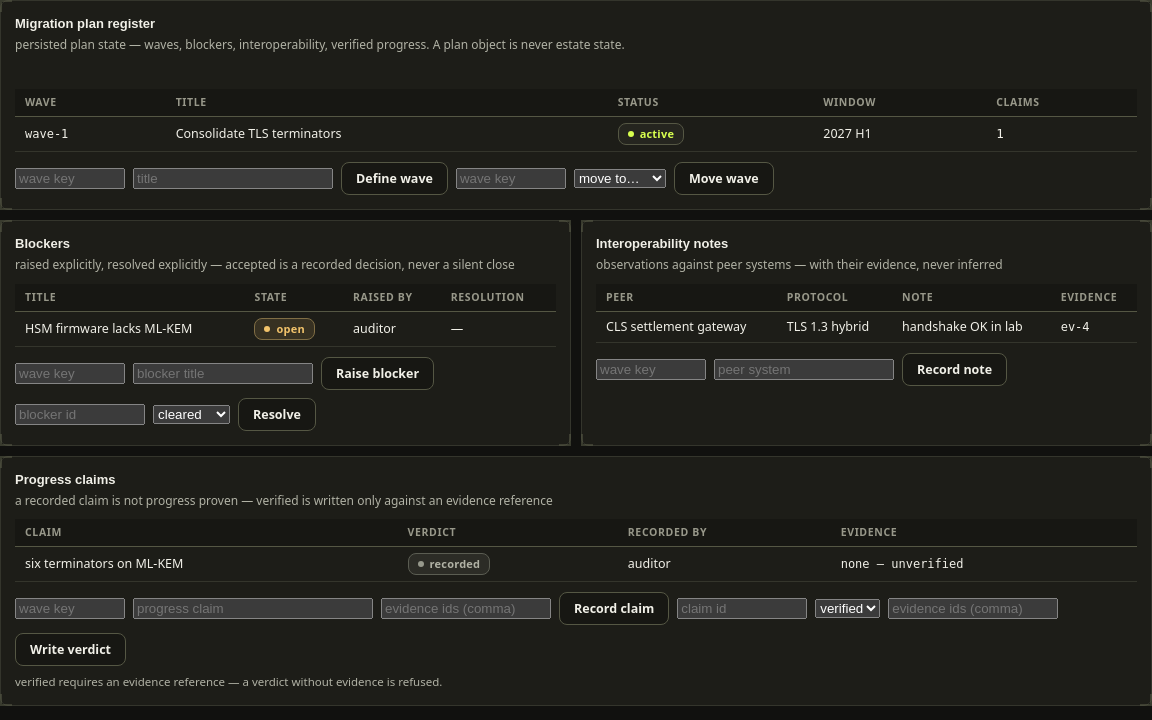
it: PQC migration plan register › posts the verdict with its evidence and reports the outcome
expect the text "six terminators on ML-KEM" is shown: met, box [15,547,398,582]
In the field with placeholder "claim id": (742,609) [677,598,807,619], type "p1"
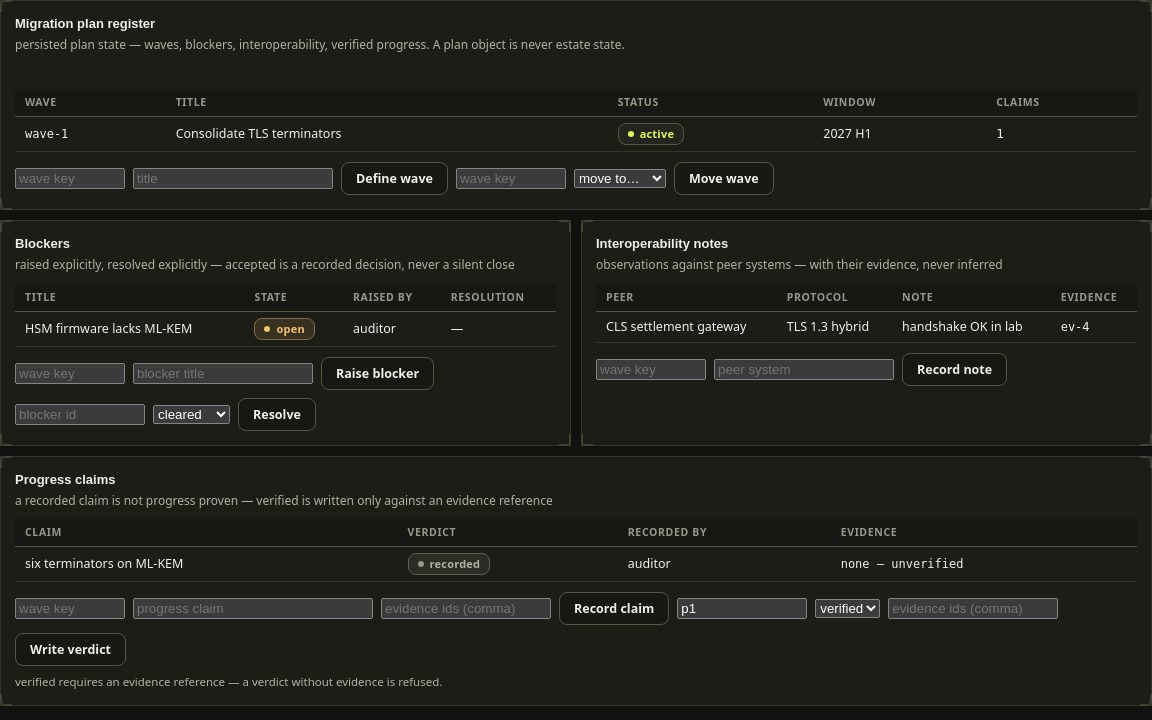
In the field named "verify evidence ids": (973,609) [888,598,1058,619], type "ev-9"
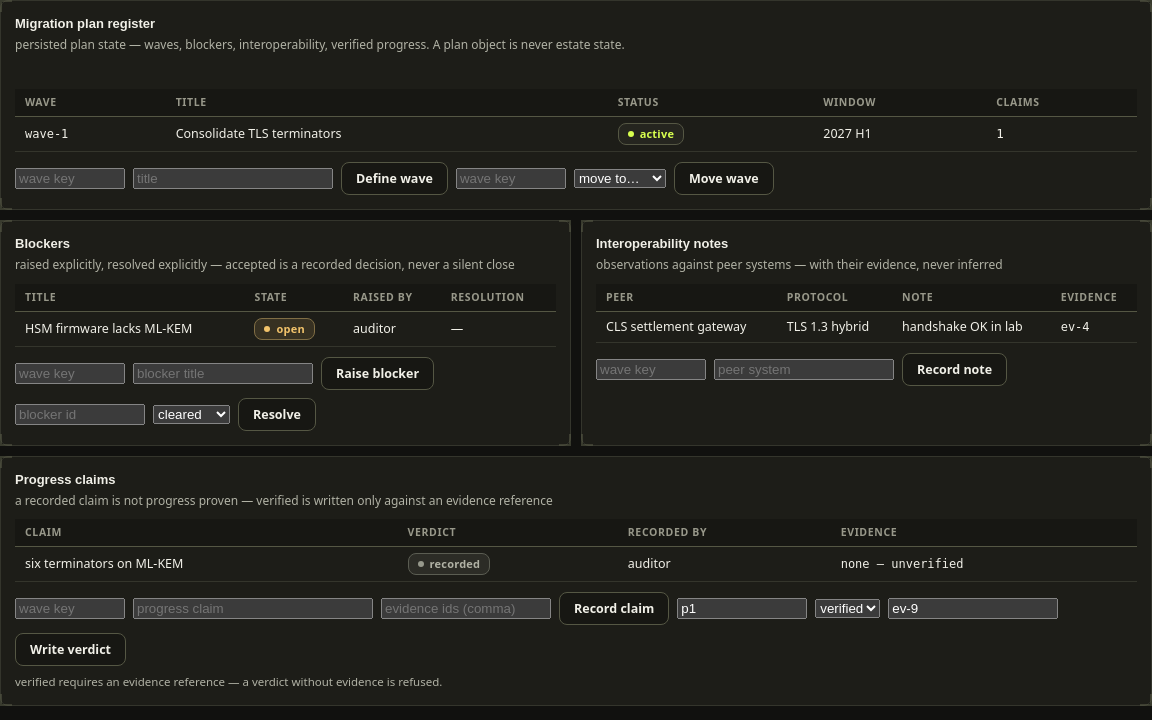
Click the button "Write verdict": (70,650) [15,633,126,666]
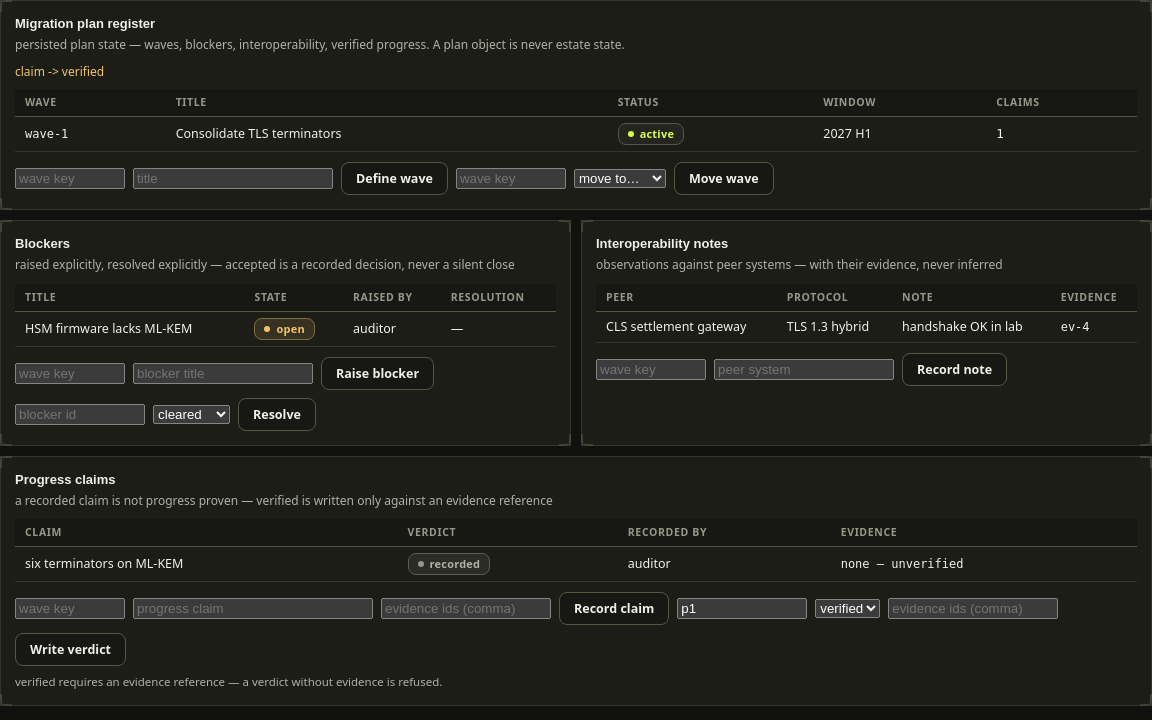
expect the message reads "claim -> verified": met, box [15,63,104,80]
